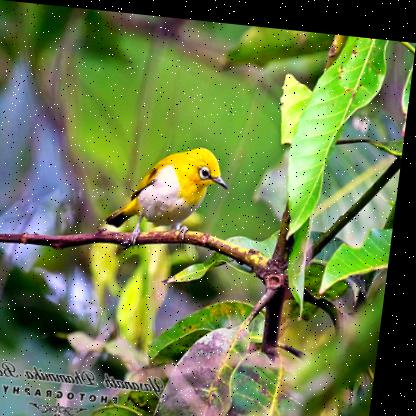Burung: (109, 134, 237, 252)
